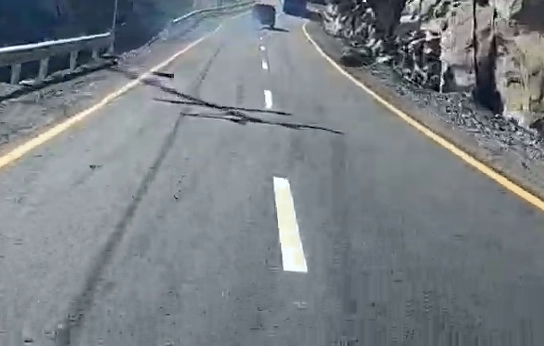left: (169, 66, 387, 301)
